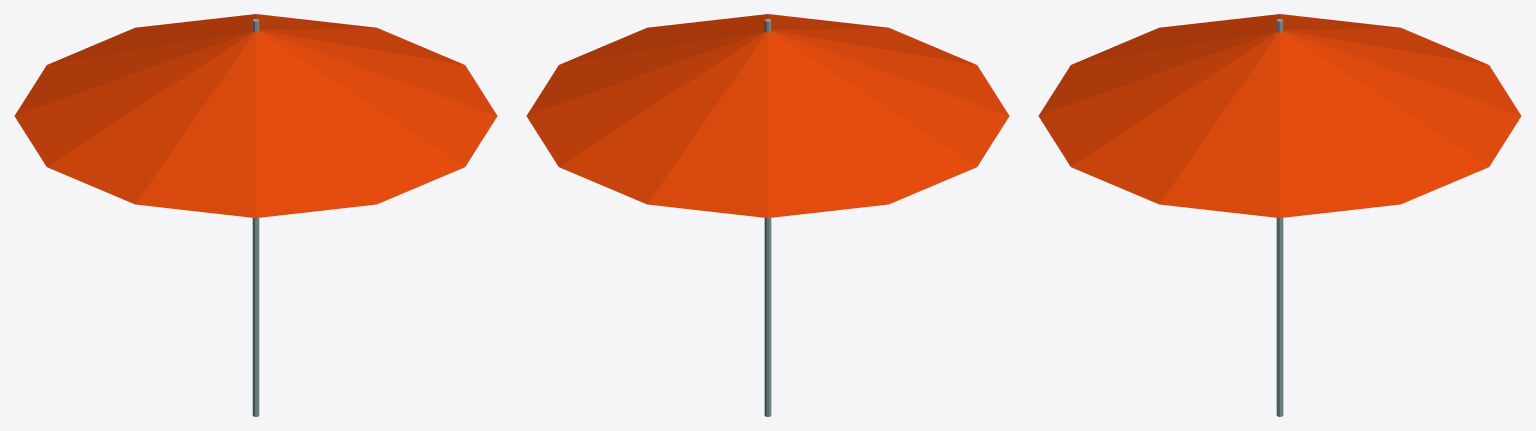
Rendered from Umbrella.glb.
3 renders of one model, left to right at view 1: azimuth 30°, elevation 25°; view 2: azimuth 150°, elevation 25°; view 3: azimuth 270°, elevation 25°, orthographic.
Visible parts, largest first — view 1: Plane.003; view 2: Plane.003; view 3: Plane.003.
Boxes of the visible parts, x1,y1,x2,y2 form: Plane.003: [14, 14, 497, 416]; Plane.003: [526, 14, 1009, 416]; Plane.003: [1038, 14, 1521, 416].
Size of the model in its own units: 2 by 1.81 by 2.
